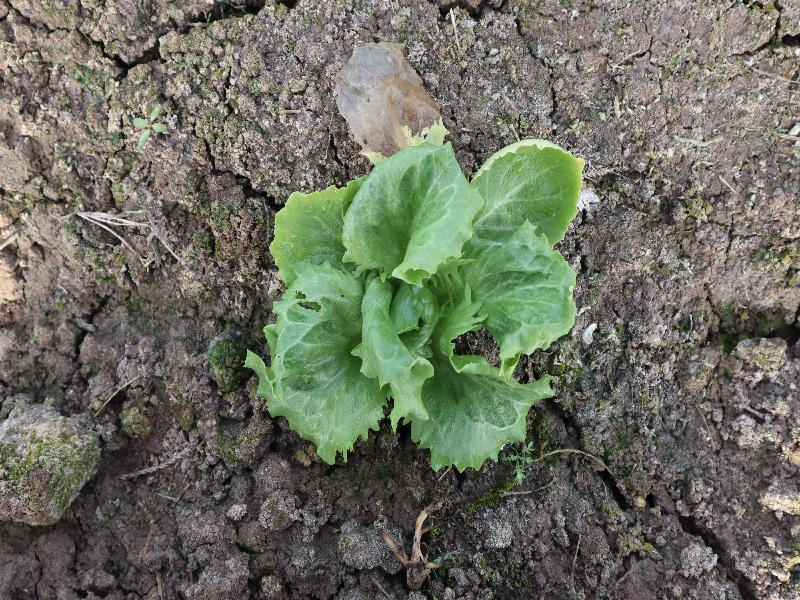lettuce: (244, 136, 588, 473)
